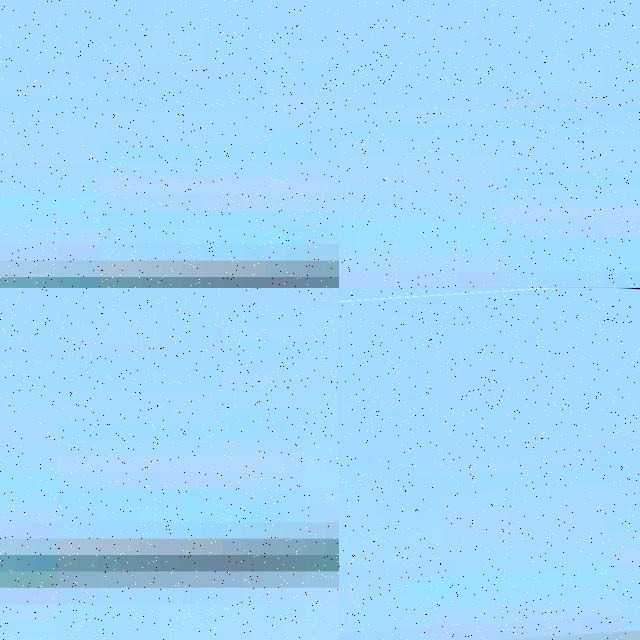drone: (339, 288, 640, 640)
